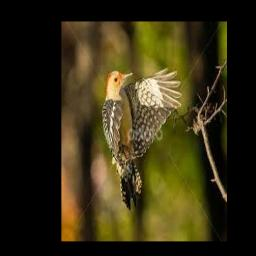Woodpecker: (101, 68, 182, 210)
